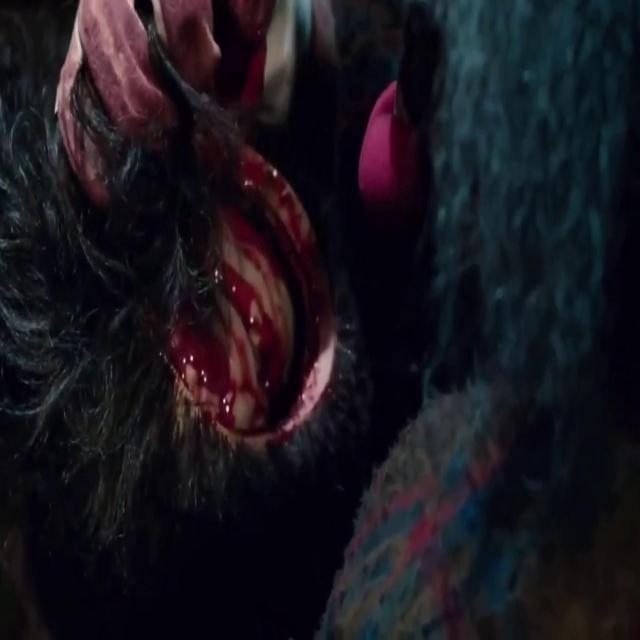flood: (146, 147, 330, 456)
